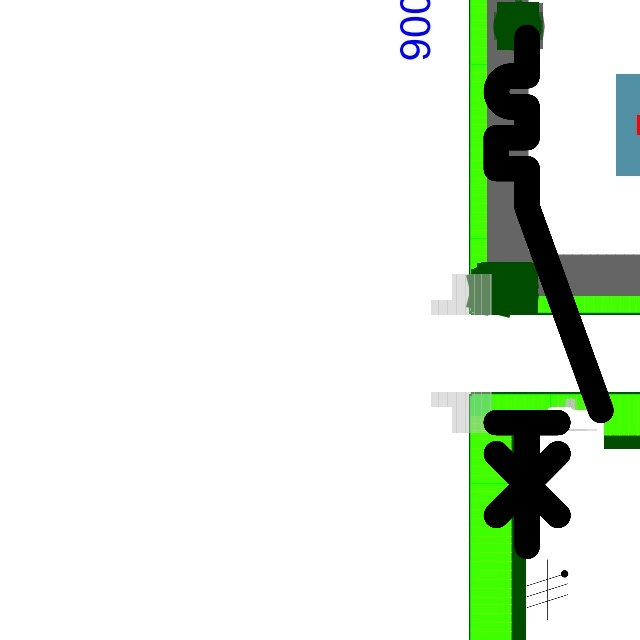interruptor_termomagnetico: (483, 24, 614, 559)
